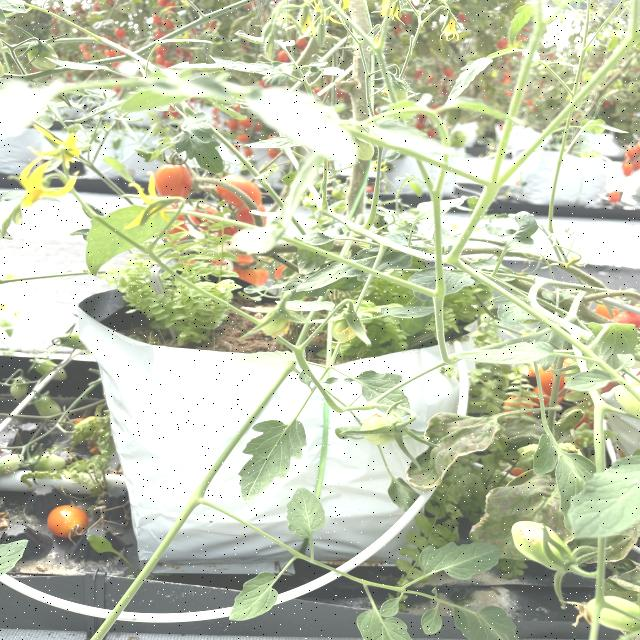Soilbag: (71, 269, 476, 574)
plant: (80, 9, 422, 330)
